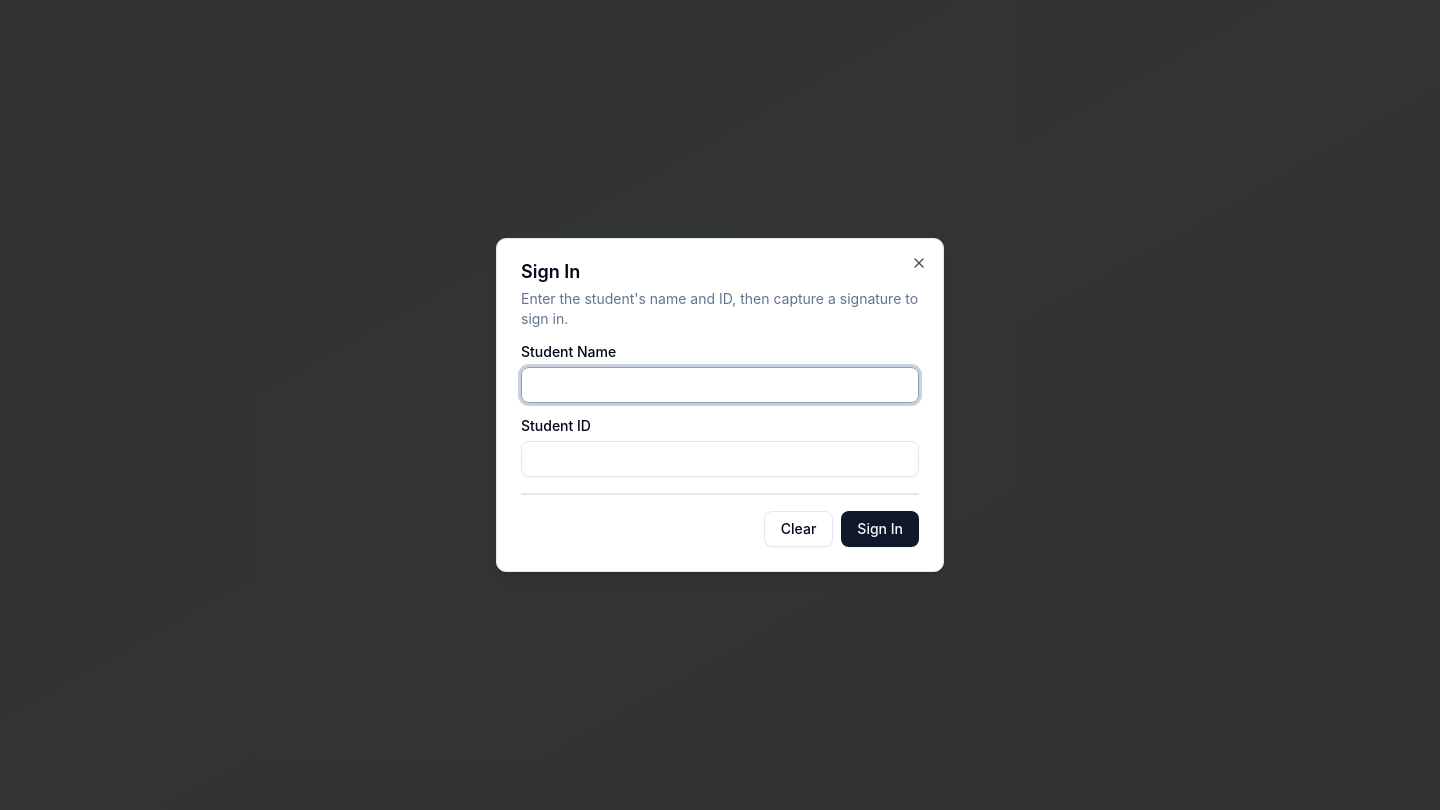
SignInModal › requires both name and student ID before signing in
The width and height of the screenshot is (1440, 810).
Click the button "Sign In" at [880, 529], box [841,511,919,547]
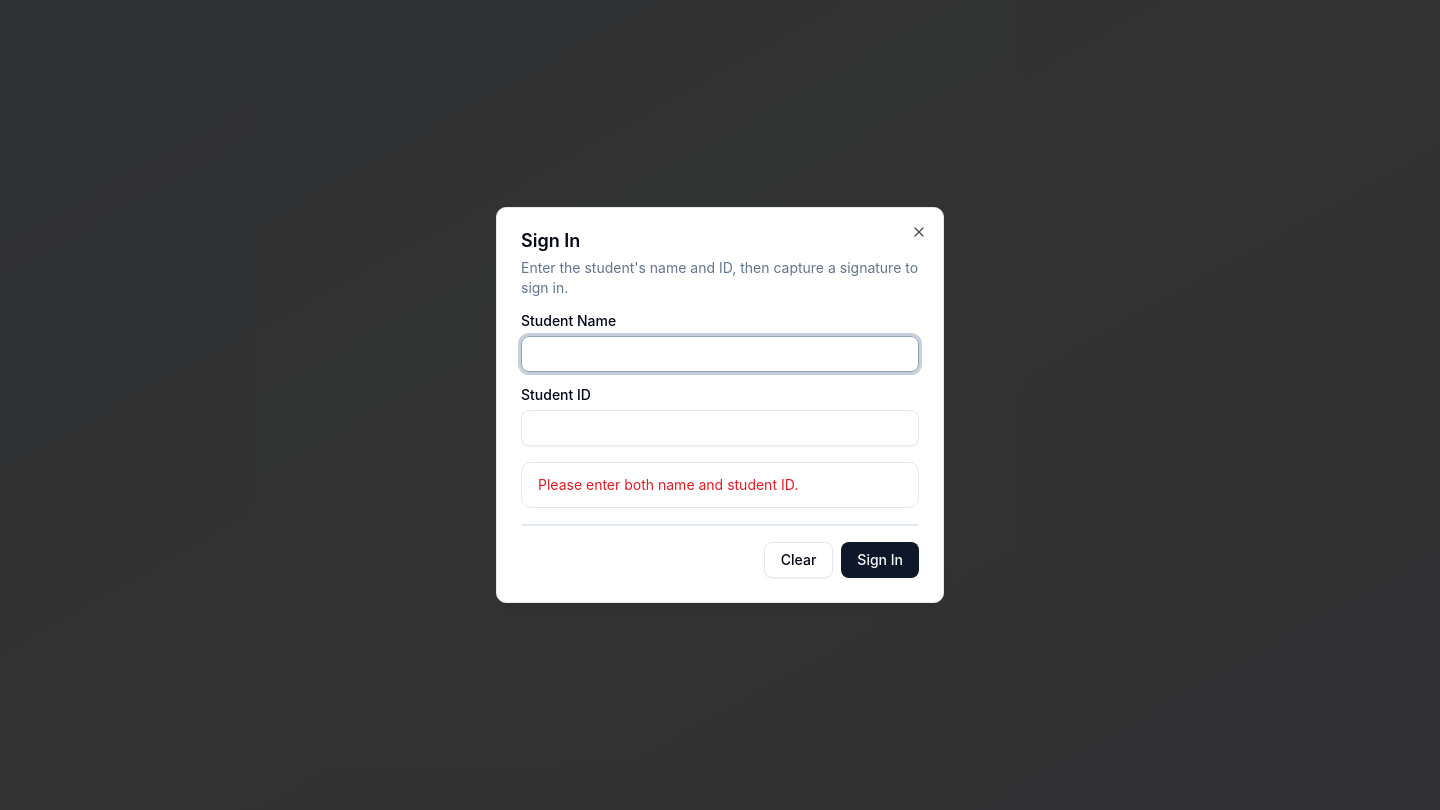
Check: the text "Please enter both name and student ID." is shown, box [538,476,798,493]
